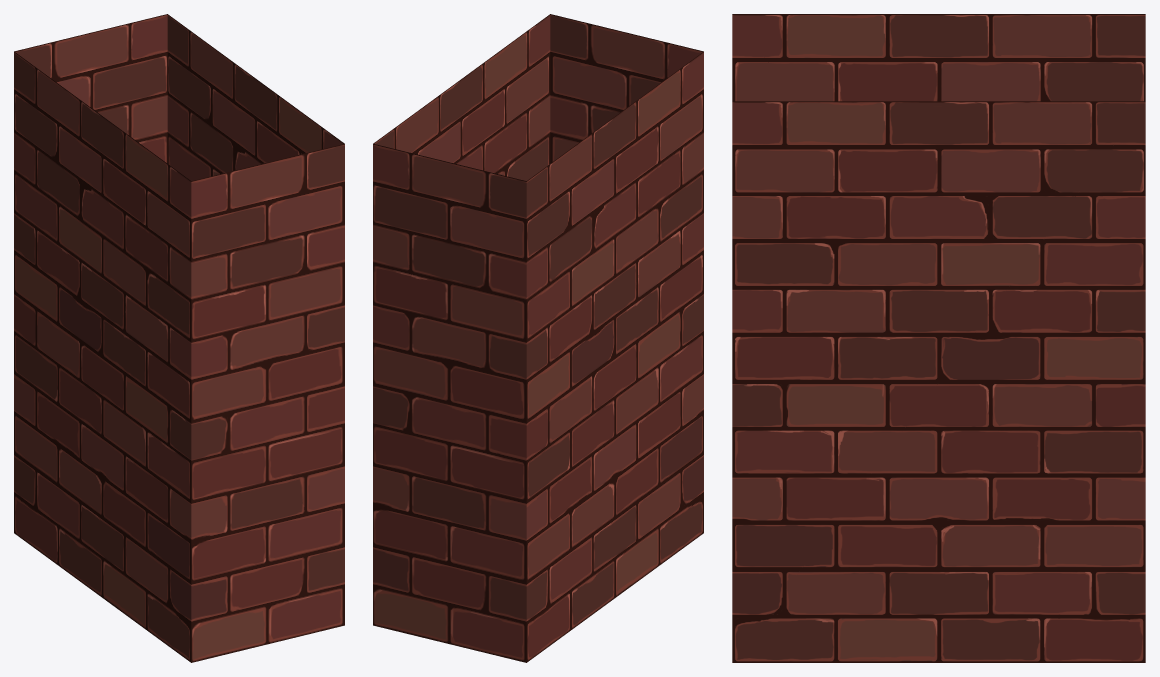
The model's file is chimney_middle.fbx.
3 views of the same model, side by side, from view 1: azimuth 30°, elevation 25°; view 2: azimuth 150°, elevation 25°; view 3: azimuth 270°, elevation 25° (orthographic). The views are drawn at different scales.
Visible parts, largest first — view 1: chimney_middle; view 2: chimney_middle; view 3: chimney_middle.
Part boxes in pixels (box(x1,y1,x2,y2)): chimney_middle: box(14, 14, 344, 662); chimney_middle: box(373, 14, 703, 662); chimney_middle: box(732, 14, 1145, 662).
Bounding box in the file's own units: 100 × 300 × 200.
